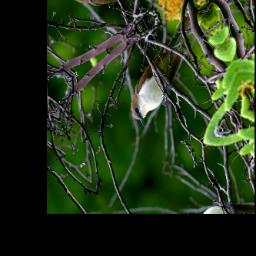Cuckoo: (107, 9, 219, 129)
